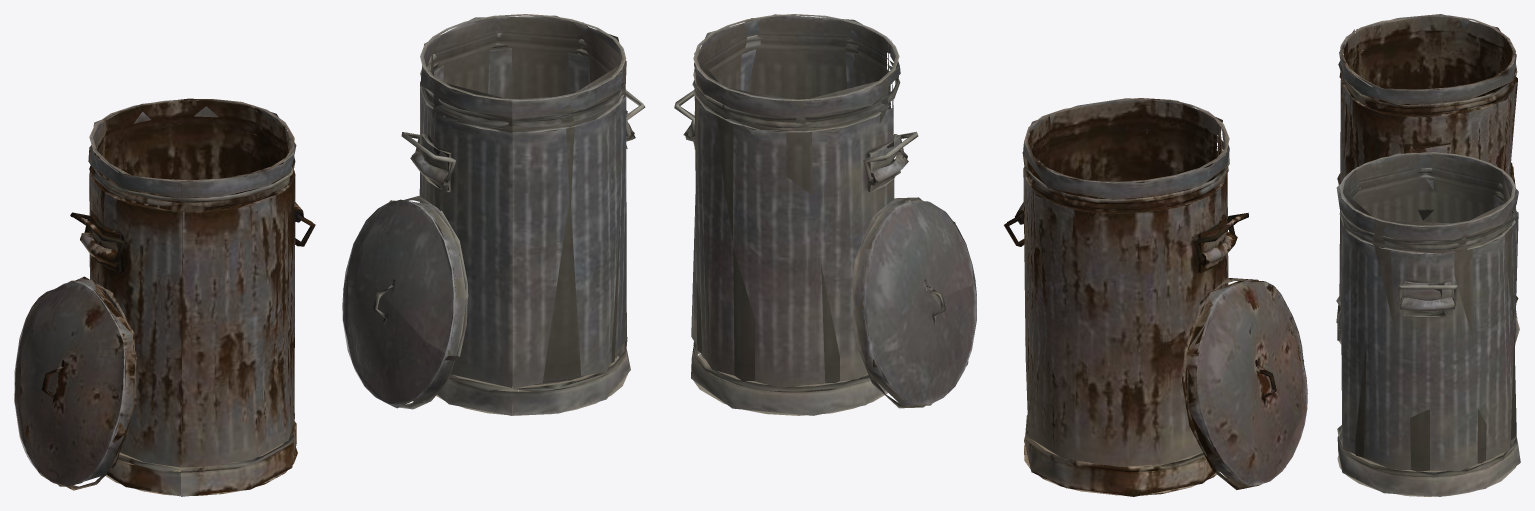
File: poubelle.glb
The picture shows the model from 3 angles, left to right: view 1: azimuth 30°, elevation 25°; view 2: azimuth 150°, elevation 25°; view 3: azimuth 270°, elevation 25°; orthographic projection. The views are drawn at different scales.
Visible parts, largest first — view 1: metal_trash_can, metal_trash_can_rust, metal_trash_can_lid, metal_trash_can_rust_lid; view 2: metal_trash_can, metal_trash_can_rust, metal_trash_can_lid, metal_trash_can_rust_lid; view 3: metal_trash_can, metal_trash_can_rust, metal_trash_can_handle_right, metal_trash_can_lid.
Part boxes in pixels (left/top/right/bottom): metal_trash_can: left=410, top=14, right=635, bottom=415; metal_trash_can_rust: left=80, top=98, right=303, bottom=496; metal_trash_can_lid: left=342, top=196, right=468, bottom=409; metal_trash_can_rust_lid: left=14, top=276, right=136, bottom=490; metal_trash_can: left=683, top=14, right=908, bottom=415; metal_trash_can_rust: left=1015, top=98, right=1237, bottom=496; metal_trash_can_lid: left=851, top=197, right=976, bottom=408; metal_trash_can_rust_lid: left=1182, top=277, right=1307, bottom=489; metal_trash_can: left=1336, top=152, right=1520, bottom=496; metal_trash_can_rust: left=1336, top=14, right=1518, bottom=322; metal_trash_can_handle_right: left=1397, top=284, right=1457, bottom=304; metal_trash_can_lid: left=1337, top=310, right=1519, bottom=344.
Size of the model in its own units: 1.78 by 0.9065 by 0.5636.
3 materials, 3 textured.
